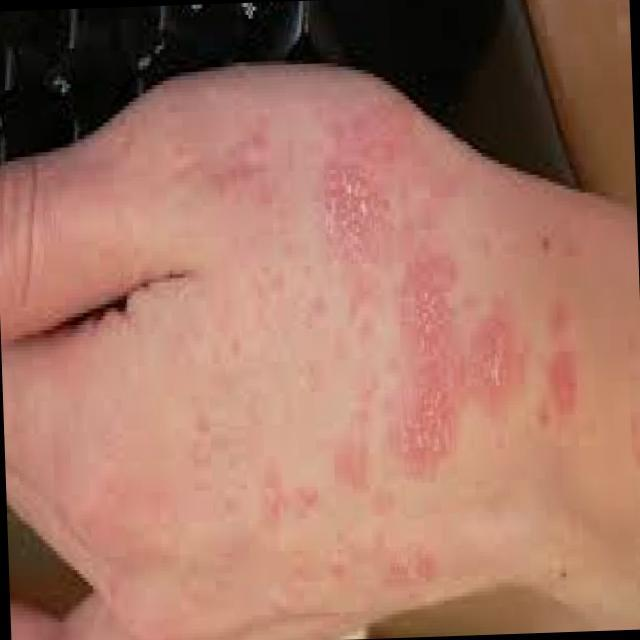Eczema: (202, 118, 576, 530)
